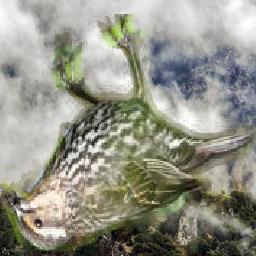Sparrow: (2, 15, 256, 252)
